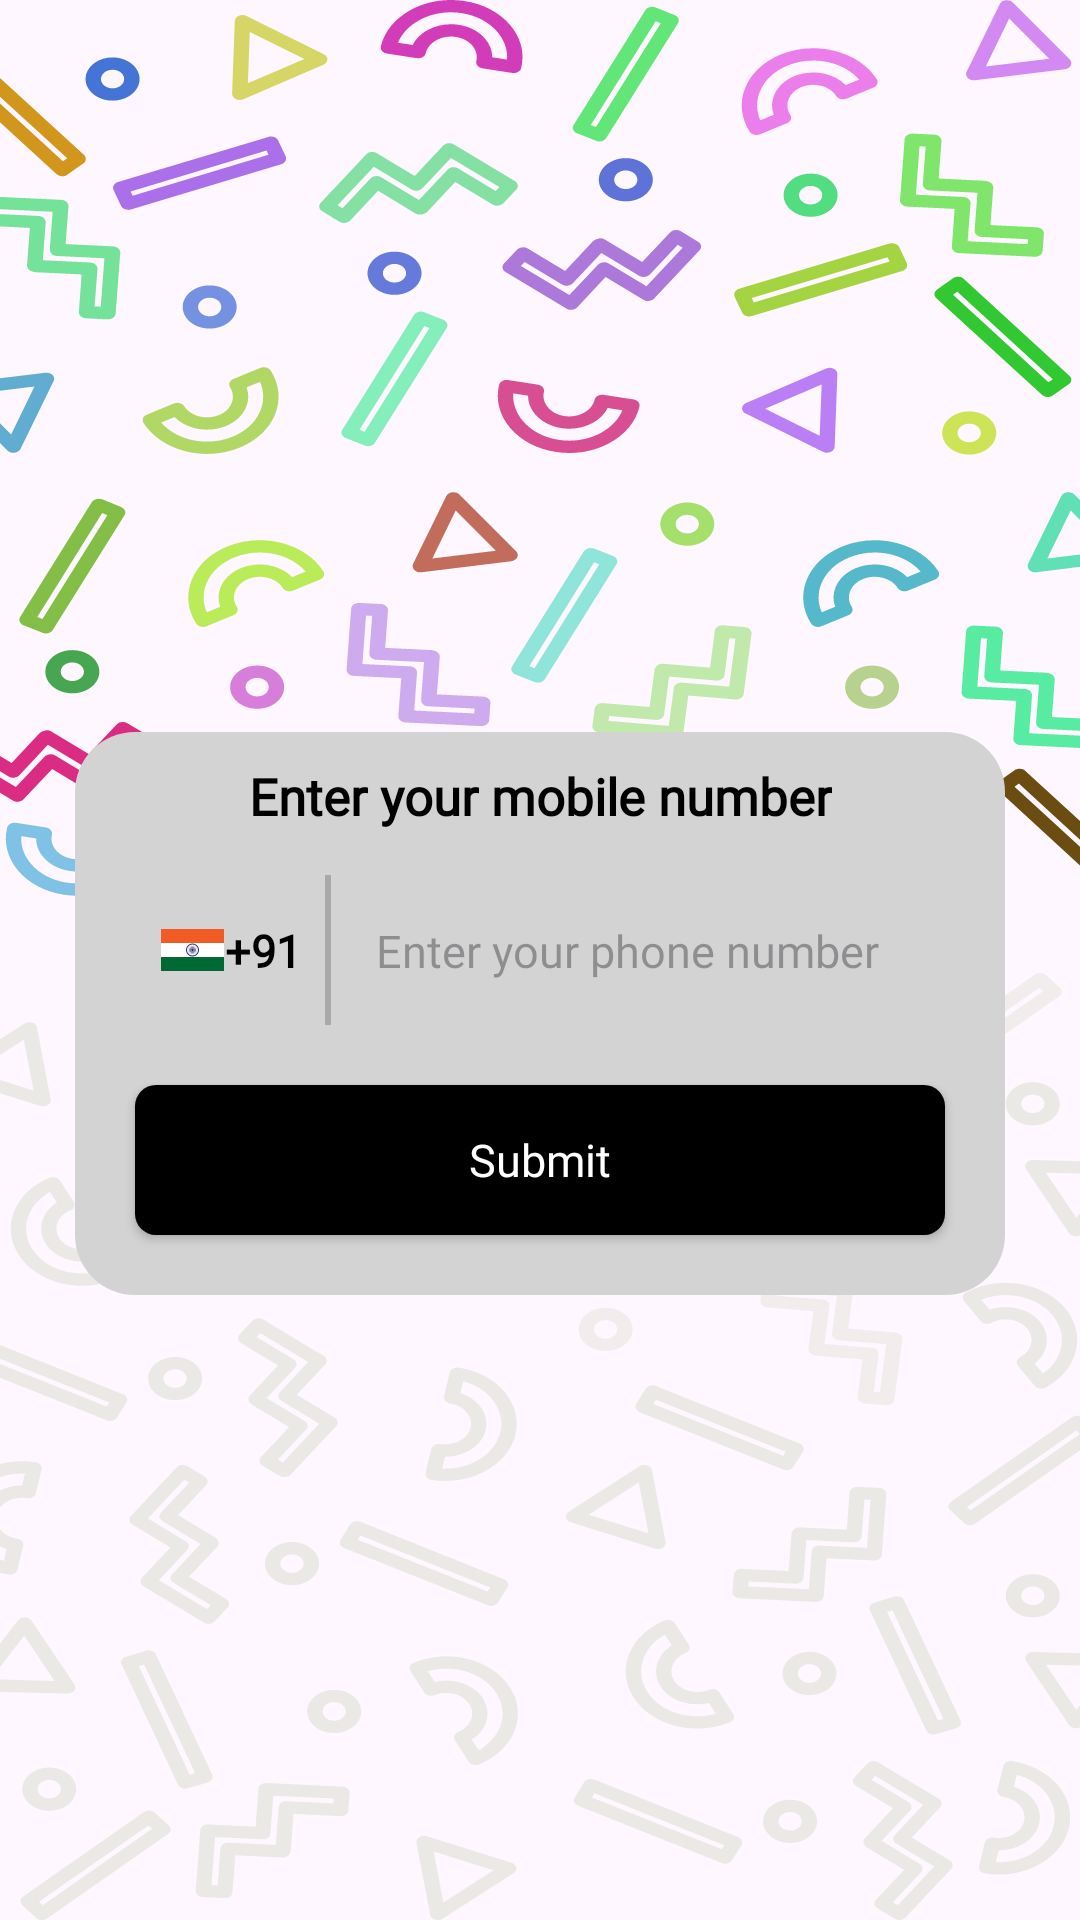

Icon bounding boxes for this 1080x1920 phone screenshot, format (x1, y1, x2, y2):
indian flag: (161, 929, 224, 971)
